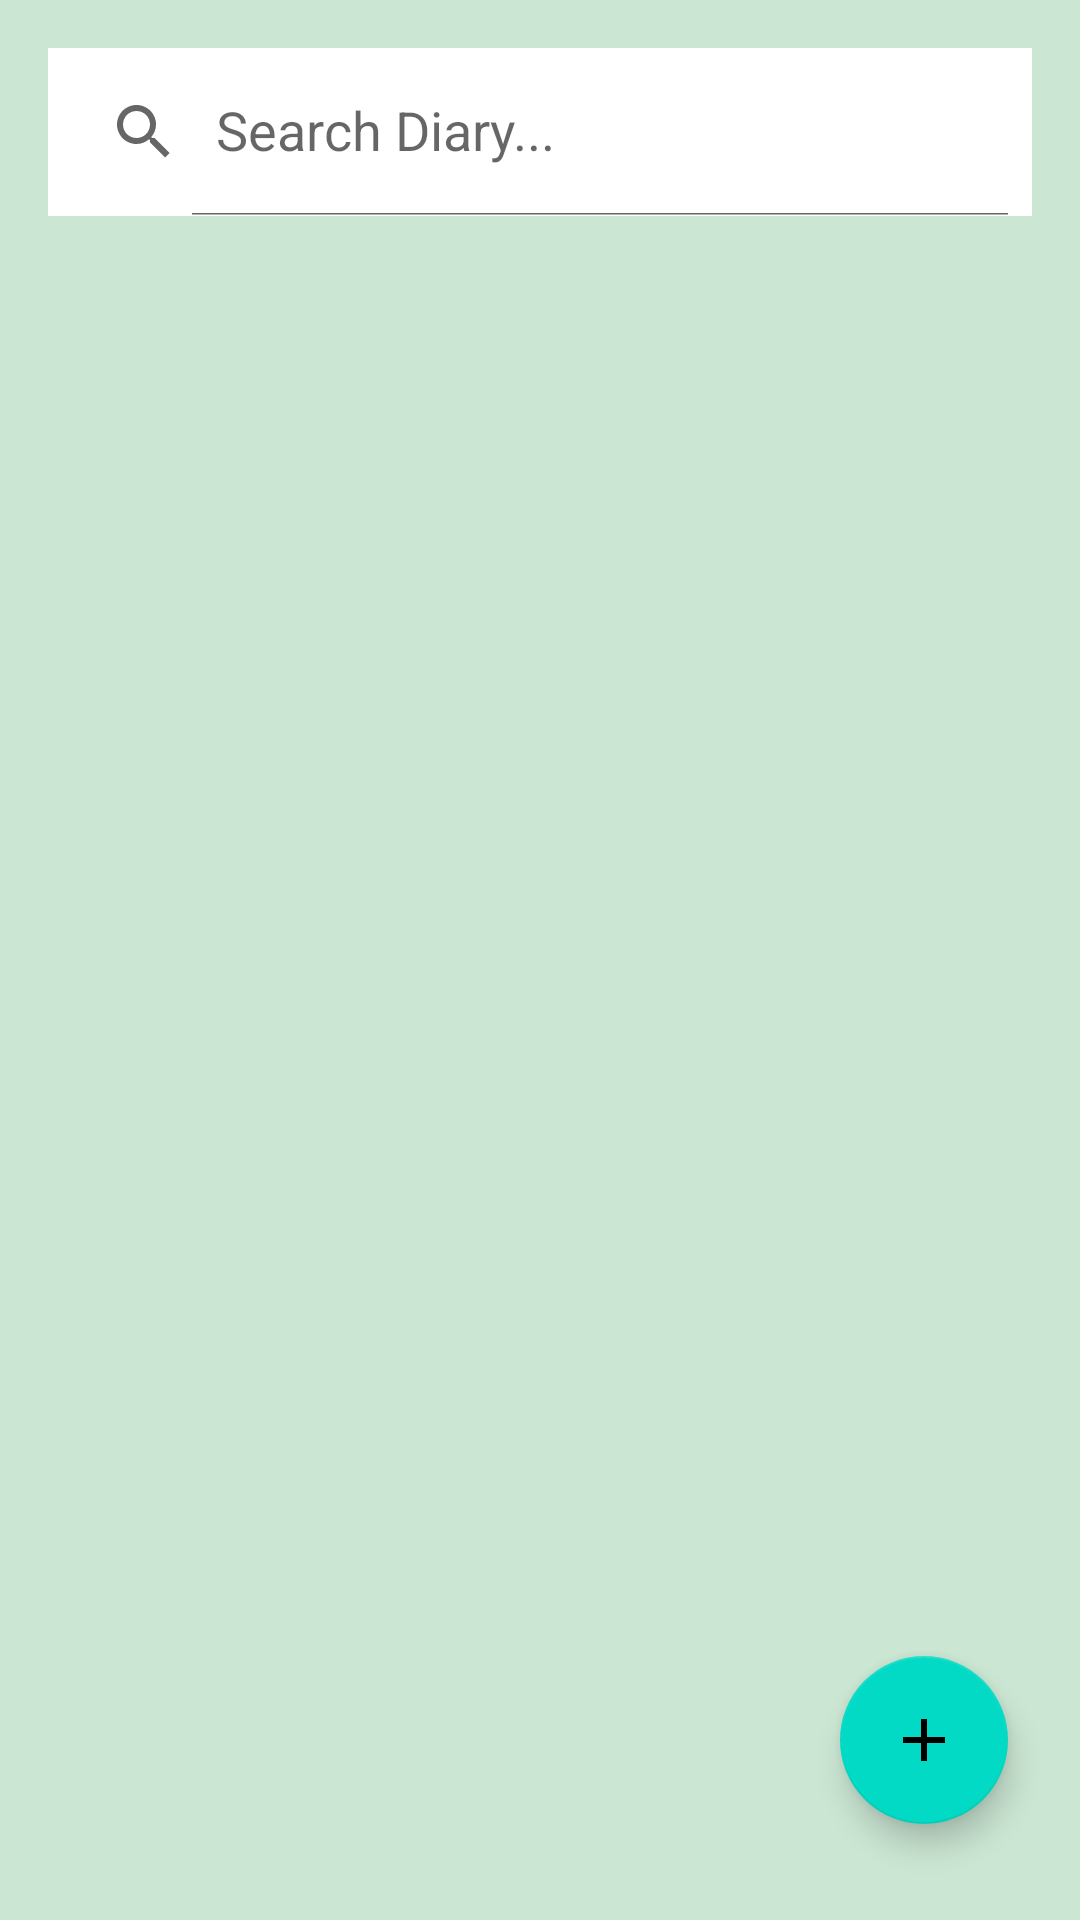

Where to tap for icons on this 1080*1920 app screen, as (x=x, y=y):
add: (x=924, y=1740)
